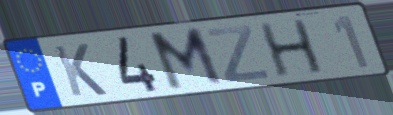1: (331, 13, 371, 70)
4: (117, 35, 160, 95)
H: (256, 17, 328, 80)
K: (50, 42, 111, 99)
M: (145, 25, 227, 94)
Z: (204, 23, 272, 85)
